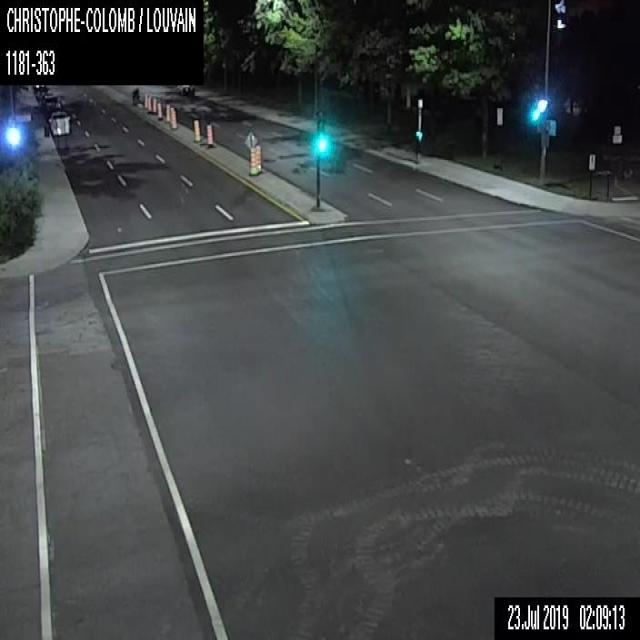construction: (248, 147, 257, 176), (254, 144, 262, 172), (205, 122, 213, 146), (169, 106, 177, 129), (193, 117, 199, 142), (164, 102, 170, 122), (146, 94, 152, 112), (157, 102, 162, 120), (143, 90, 148, 108), (152, 95, 156, 114)
vehicle: (48, 108, 70, 136), (42, 91, 61, 109), (174, 84, 190, 94), (33, 84, 51, 92)
